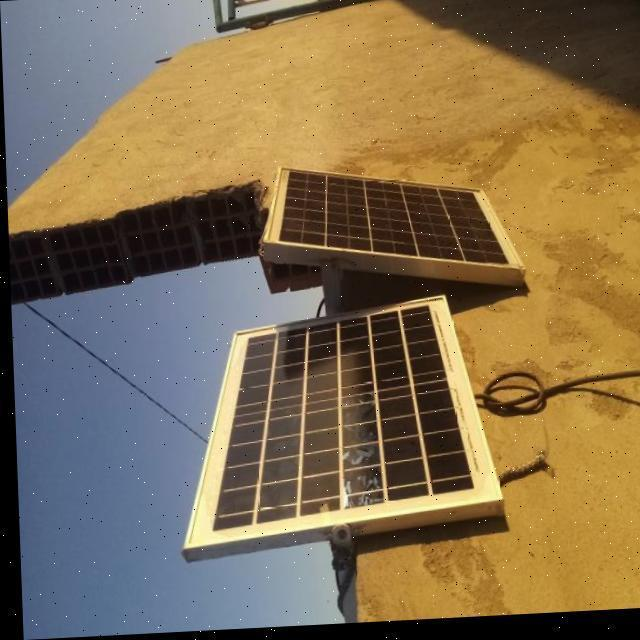Normal Solar Panel: (262, 160, 522, 280)
